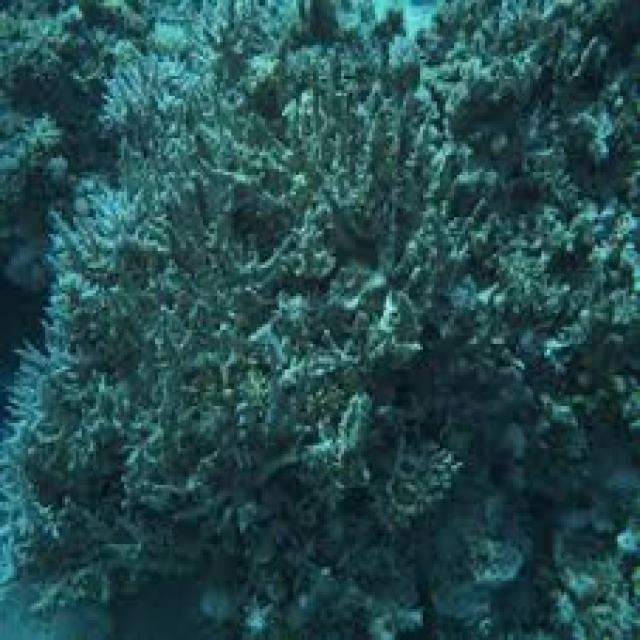Dead Coral: (0, 26, 640, 618), (0, 51, 476, 601)
